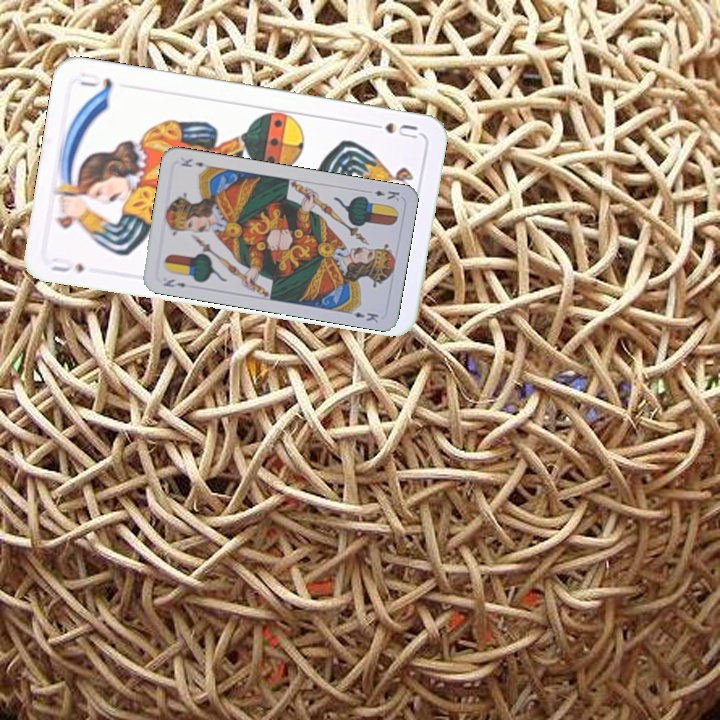EK: (370, 186, 402, 203), (159, 275, 188, 290)
SU: (363, 118, 420, 141), (47, 253, 87, 275)
